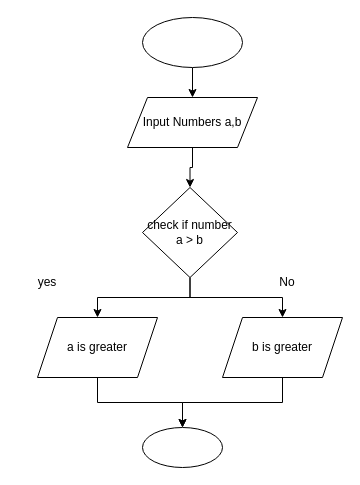
Image size: 360x485. Some labels were removed from this diagram. Each missing label, with the box of its shape:
End: (142, 426, 222, 468)
Start: (142, 16, 242, 68)
